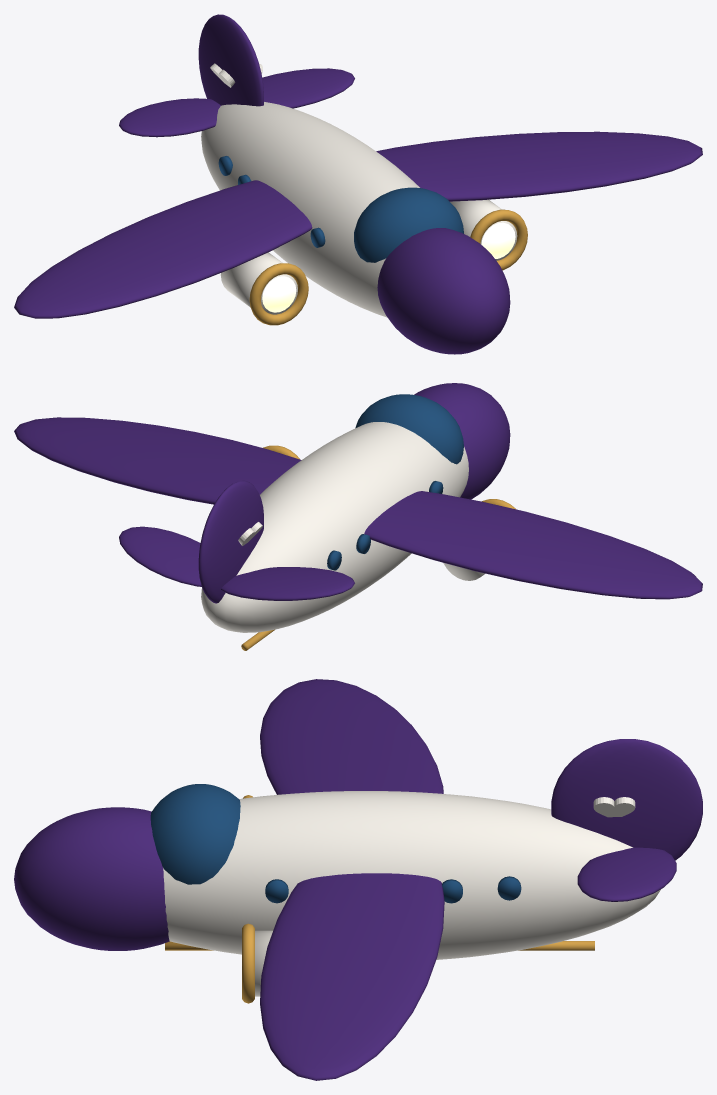
File: KC_AIRPLANE_LOD0.glb
The picture shows the model from 3 angles, top to bottom: view 1: azimuth 30°, elevation 25°; view 2: azimuth 150°, elevation 25°; view 3: azimuth 270°, elevation 25°; orthographic projection. The views are drawn at different scales.
Visible parts, largest first — view 1: FUSELAGE, WING_L, WING_R, NOSE, COCKPIT_GLASS, TAIL, TAIL_STAB_L, TAIL_STAB_R, ENGINE_L_RING, ENGINE_L, ENGINE_R_RING, ENGINE_R (+2 smaller); view 2: FUSELAGE, WING_L, WING_R, NOSE, TAIL, COCKPIT_GLASS, TAIL_STAB_L, TAIL_STAB_R; view 3: FUSELAGE, WING_R, NOSE, WING_L, TAIL, COCKPIT_GLASS, TAIL_STAB_R, ENGINE_R_RING, TRIM_BELLY, KC_BADGE_R, ENGINE_R.
Part boxes in pixels (<box>): FUSELAGE: <box>201,102,419,317</box>; WING_L: <box>14,180,312,318</box>; WING_R: <box>376,131,702,201</box>; NOSE: <box>377,228,510,354</box>; COCKPIT_GLASS: <box>354,187,463,262</box>; TAIL: <box>198,14,263,106</box>; TAIL_STAB_L: <box>119,98,220,137</box>; TAIL_STAB_R: <box>262,68,354,108</box>; ENGINE_L_RING: <box>249,263,308,325</box>; ENGINE_L: <box>220,252,297,314</box>; ENGINE_R_RING: <box>470,209,527,270</box>; ENGINE_R: <box>450,199,517,260</box>; FUSELAGE: <box>201,422,468,632</box>; WING_L: <box>364,491,702,599</box>; WING_R: <box>14,417,301,504</box>; NOSE: <box>414,383,510,499</box>; TAIL: <box>198,480,263,603</box>; COCKPIT_GLASS: <box>355,394,463,464</box>; TAIL_STAB_L: <box>221,567,354,600</box>; TAIL_STAB_R: <box>119,526,201,586</box>; FUSELAGE: <box>163,791,660,959</box>; WING_R: <box>260,873,444,1080</box>; NOSE: <box>14,807,169,950</box>; WING_L: <box>260,679,443,794</box>; TAIL: <box>551,739,702,860</box>; COCKPIT_GLASS: <box>150,784,240,884</box>; TAIL_STAB_R: <box>577,847,676,901</box>; ENGINE_R_RING: <box>242,923,254,1003</box>; TRIM_BELLY: <box>165,941,594,950</box>; KC_BADGE_R: <box>593,797,635,817</box>; ENGINE_R: <box>255,930,272,996</box>.
Bounding box in the file's own units: 6.85 × 1.72 × 4.98.
